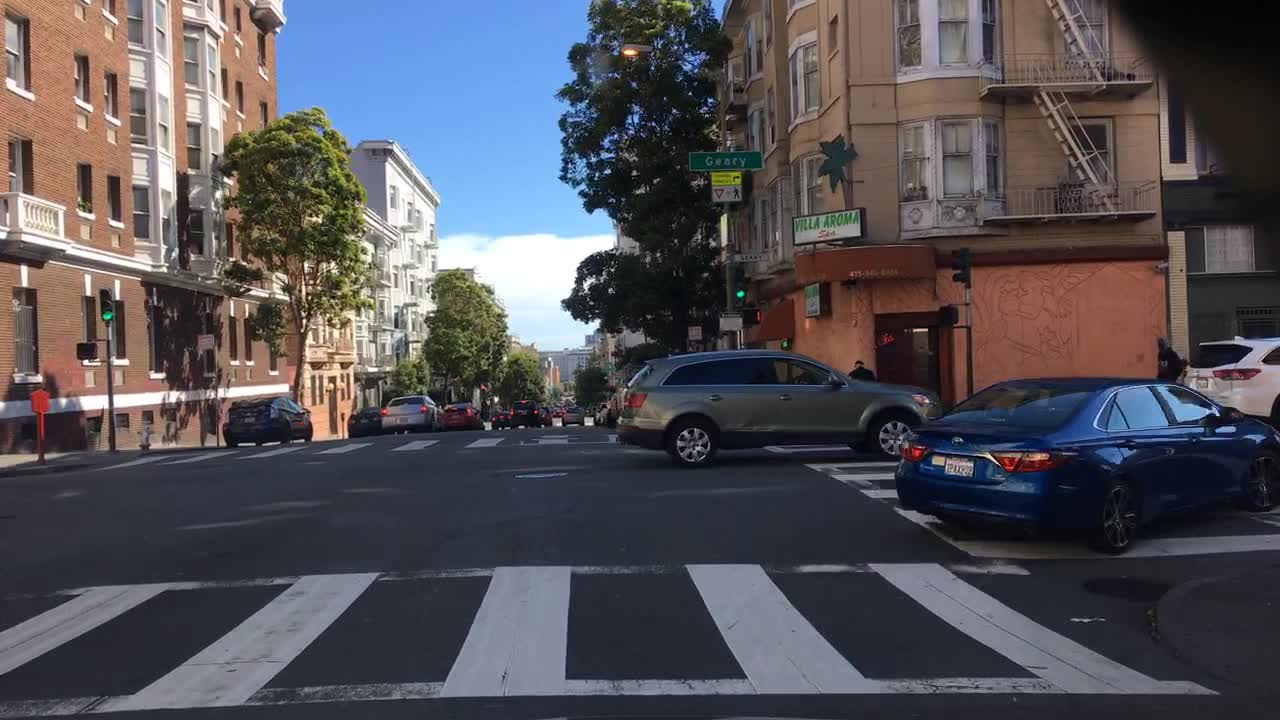car: (895, 376, 1277, 554), (617, 350, 942, 465), (1185, 335, 1278, 425), (219, 394, 311, 442), (381, 396, 446, 434), (442, 401, 484, 429), (346, 406, 385, 432), (509, 401, 539, 425), (607, 390, 621, 425), (561, 405, 582, 424), (490, 411, 507, 427), (541, 405, 552, 426), (598, 404, 608, 425), (591, 406, 601, 421), (551, 404, 561, 416)
person: (1156, 336, 1186, 379), (847, 359, 873, 379)
traffic light: (940, 301, 968, 329), (950, 247, 970, 284), (77, 340, 99, 361), (101, 286, 112, 321), (736, 267, 746, 300), (744, 306, 763, 320)
traffic sign: (688, 150, 762, 170), (711, 173, 743, 203), (718, 313, 744, 330), (733, 252, 769, 262), (685, 323, 700, 339)
